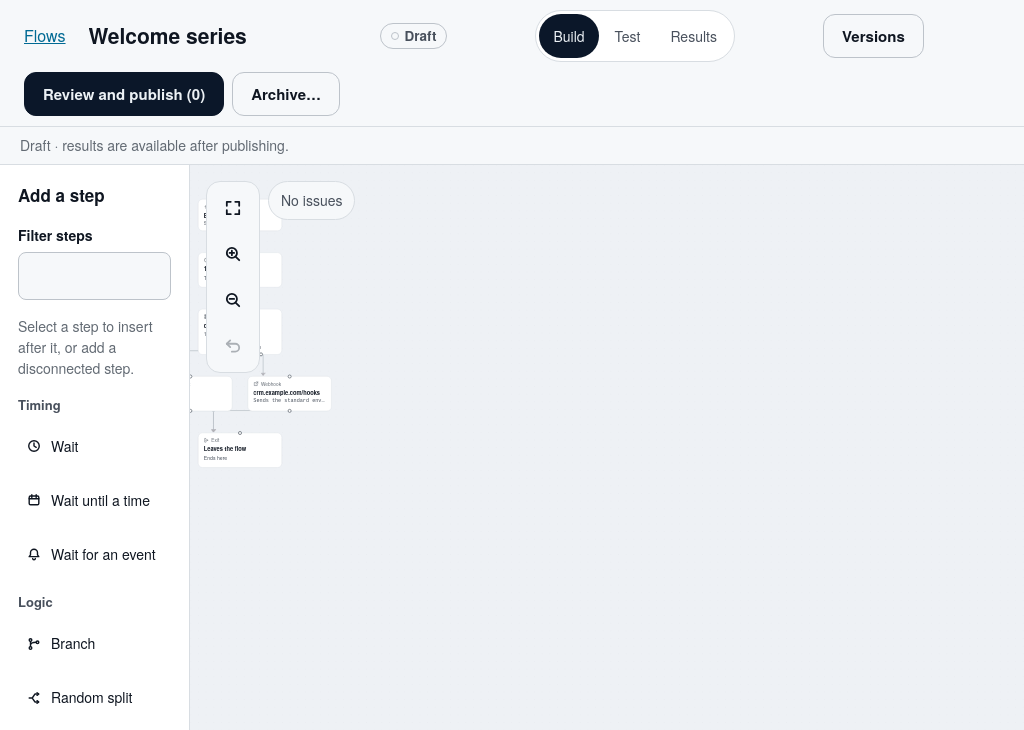
publish dialog › lists the issues in words and disables Publish with the reason
The width and height of the screenshot is (1024, 730).
Click the button "Review and publish (0)".
click(124, 94)  # box [24,72,224,116]
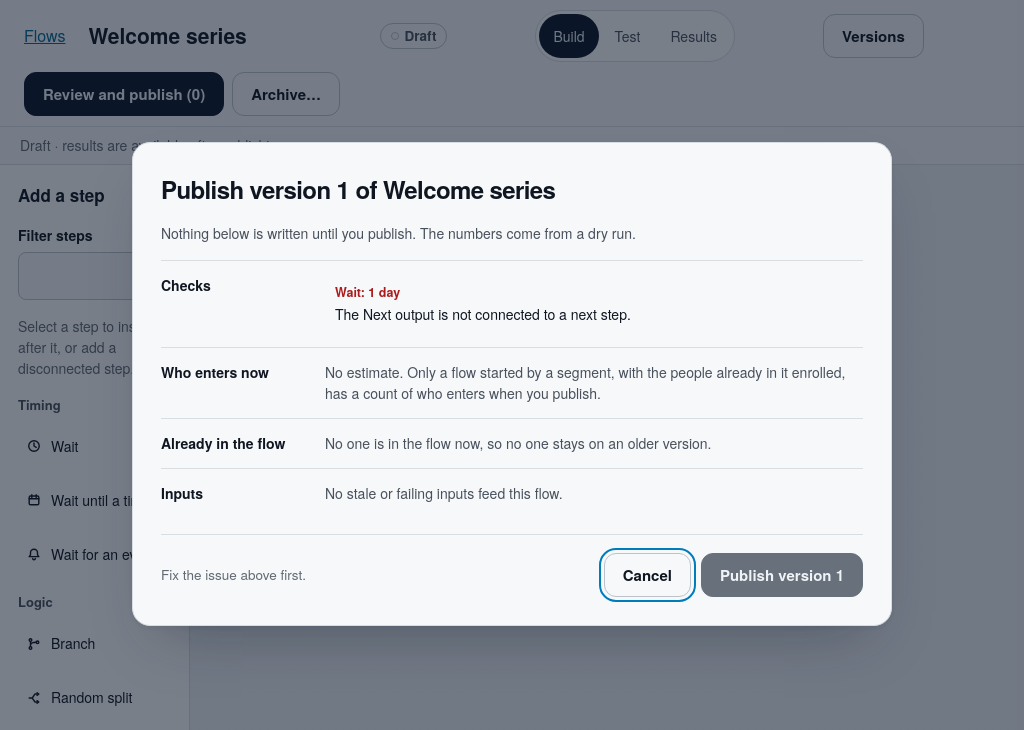
Result: the text "The Next output is not connected to a next step." is shown at [335,304,631,325]
Result: the button "Publish version 1" is disabled at [701,553,863,597]
